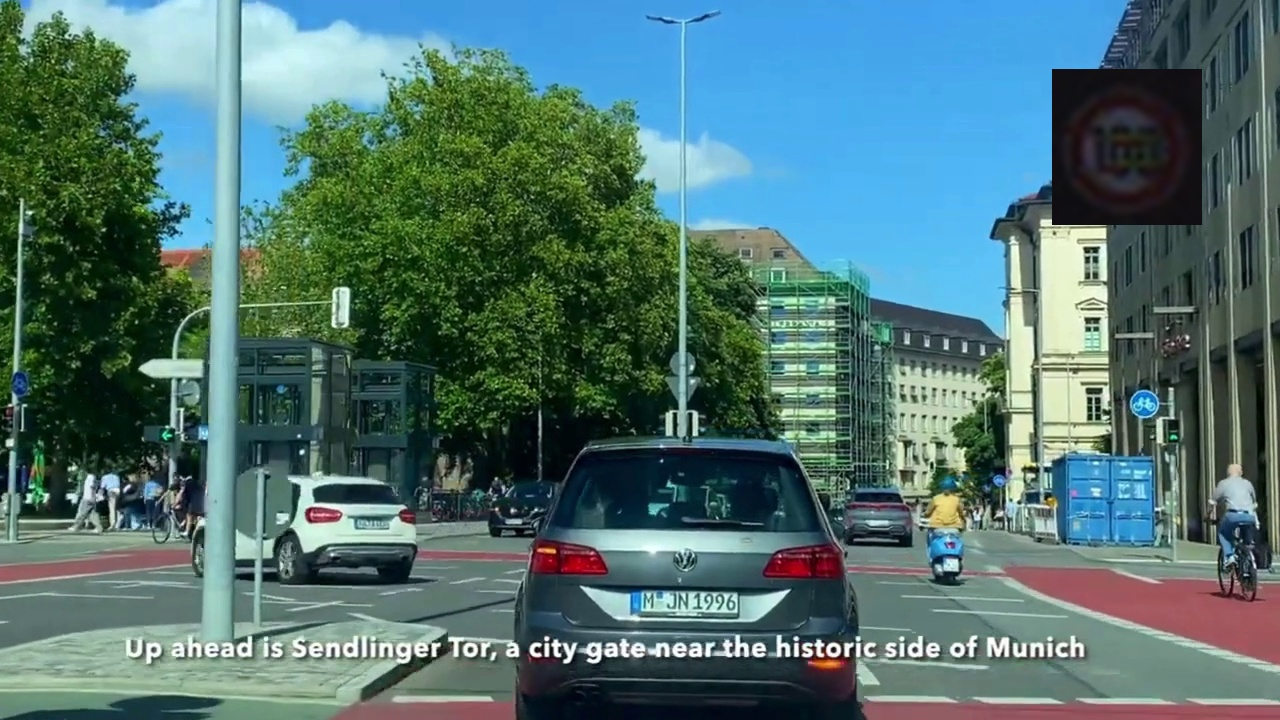Speed 100: (1052, 69, 1202, 225)
